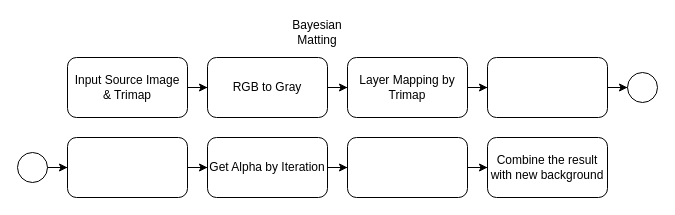
Image size: 675x215. Some labels were removed from this diagram. Each missing label, with the centre of its shape:
"Get Average Alpha Value" belongs at (x=127, y=167).
"Get Mean and Cov Value" belongs at (x=547, y=87).
"Implement Alpha and output the result" belongs at (x=407, y=167).
